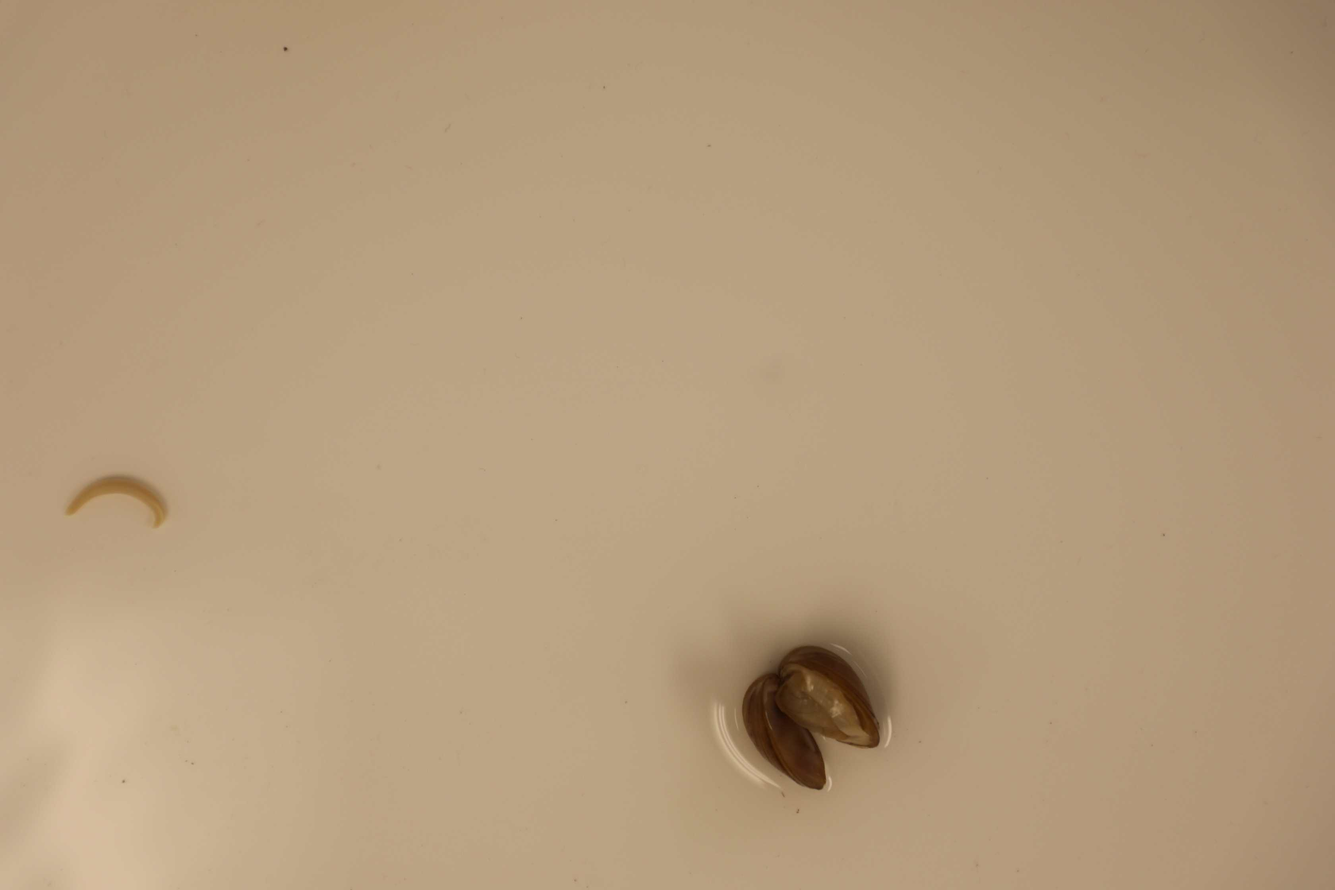Cadisfly: (61, 477, 163, 530)
Other: (736, 642, 882, 796)
